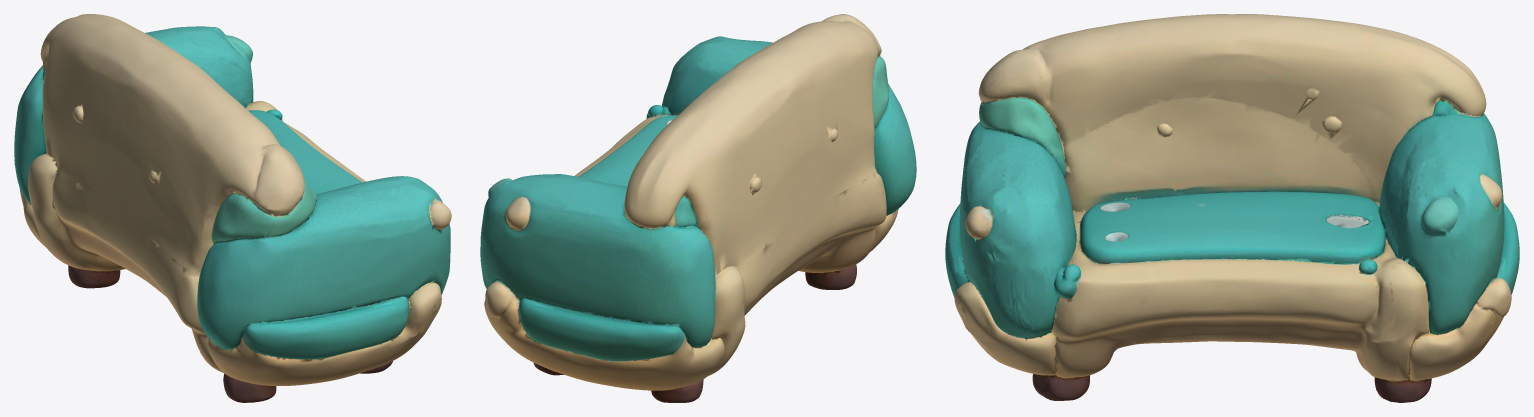
The model's file is env_nest_couch_01.glb.
The picture shows the model from 3 angles, left to right: view 1: azimuth 30°, elevation 25°; view 2: azimuth 150°, elevation 25°; view 3: azimuth 270°, elevation 25°; orthographic projection. The views are drawn at different scales.
Parts seen in each view (by area): view 1: tripo_node_0b0744a3-b889-49ca-ab33-d0d45969bf9a; view 2: tripo_node_0b0744a3-b889-49ca-ab33-d0d45969bf9a; view 3: tripo_node_0b0744a3-b889-49ca-ab33-d0d45969bf9a.
Part boxes in pixels (x1=…): tripo_node_0b0744a3-b889-49ca-ab33-d0d45969bf9a: x1=14, y1=14, x2=451, y2=402; tripo_node_0b0744a3-b889-49ca-ab33-d0d45969bf9a: x1=480, y1=14, x2=916, y2=402; tripo_node_0b0744a3-b889-49ca-ab33-d0d45969bf9a: x1=945, y1=14, x2=1519, y2=402.
Size of the model in its own units: 0.9204 by 1 by 1.69.
Materials: 1 (1 with a texture image).
